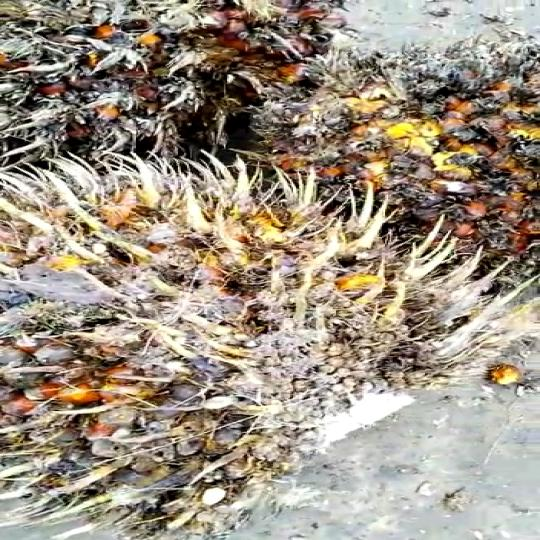terlalu masak: (0, 135, 540, 532)
